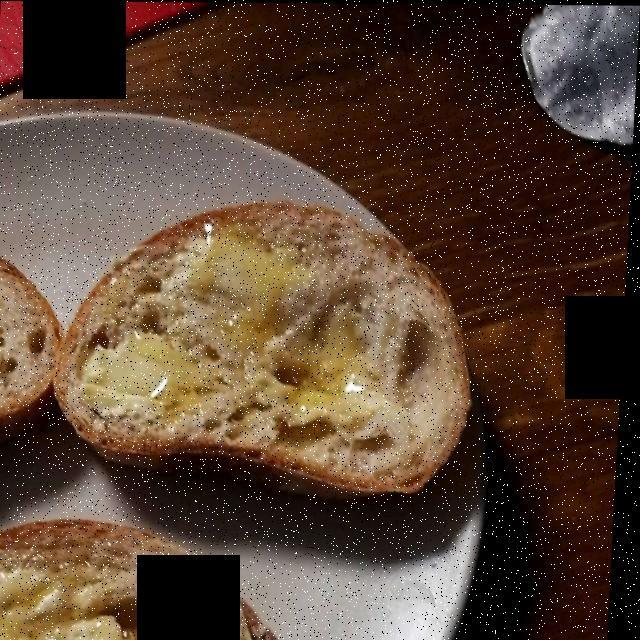honey: (0, 240, 370, 636)
